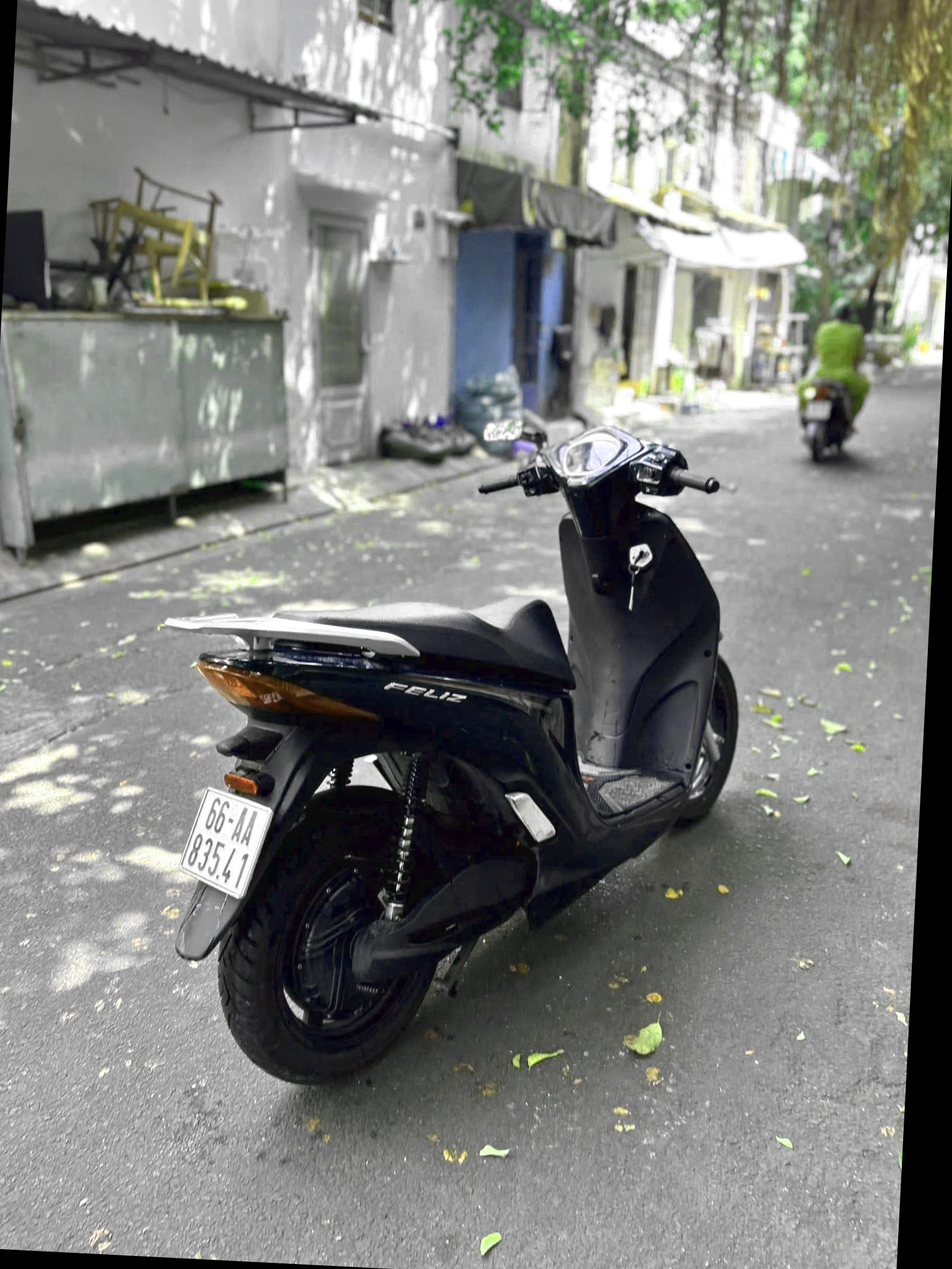Bien-so: (156, 759, 267, 876)
